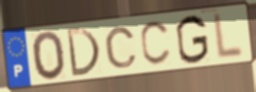C: (138, 19, 172, 68), (103, 26, 139, 71)
D: (64, 26, 103, 78)
G: (174, 13, 211, 66)
L: (213, 11, 246, 62)
O: (30, 30, 68, 83)
